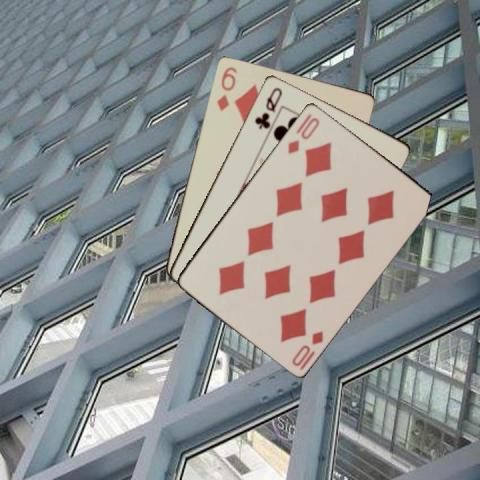10d: (288, 328, 324, 372), (284, 114, 321, 155)
6d: (213, 63, 239, 112)
Qc: (252, 83, 284, 131)
